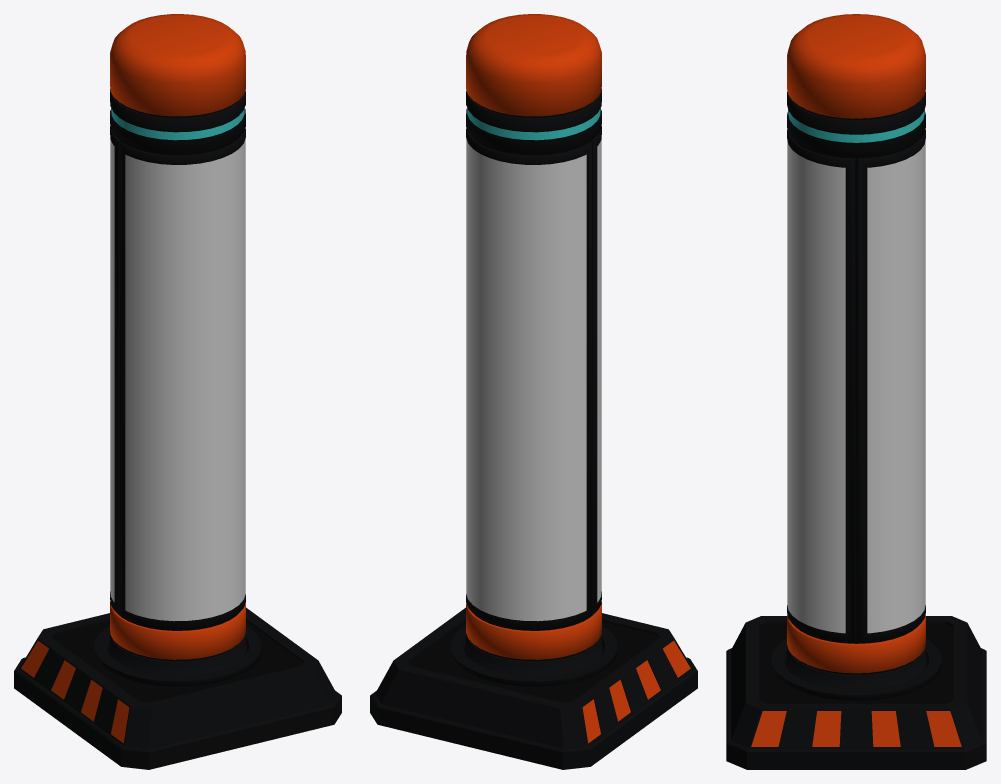
Rendered from SM_Short_Post.obj.
3 renders of one model, left to right at view 1: azimuth 30°, elevation 25°; view 2: azimuth 150°, elevation 25°; view 3: azimuth 270°, elevation 25°, orthographic. The views are drawn at different scales.
Parts seen in each view (by area): view 1: SM_Short_Post; view 2: SM_Short_Post; view 3: SM_Short_Post.
Boxes of the visible parts, x1,y1,x2,y2 form: SM_Short_Post: (14, 14, 341, 769); SM_Short_Post: (370, 14, 697, 769); SM_Short_Post: (726, 14, 986, 769).
Size of the model in its own units: 0.2 by 0.5758 by 0.2.
